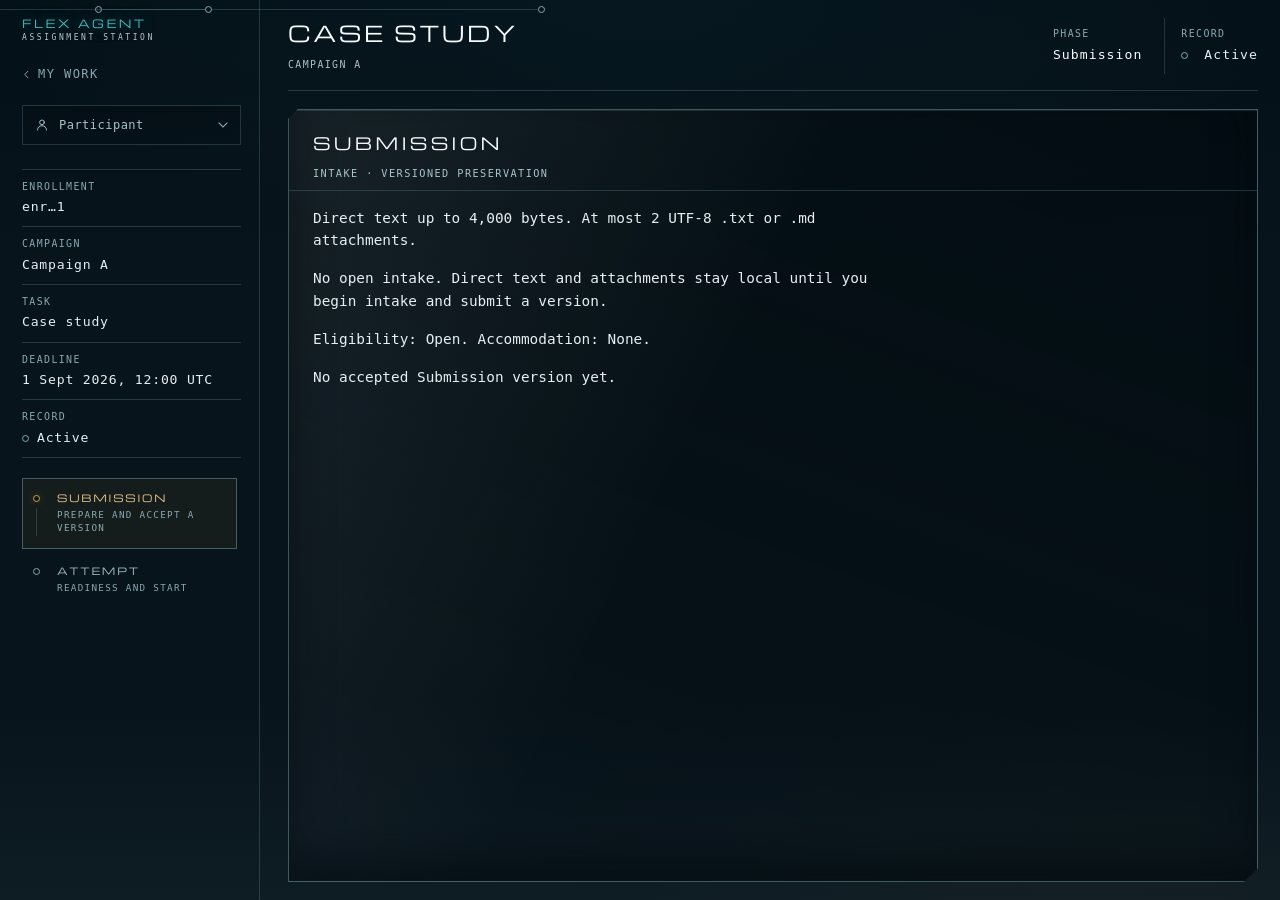
ProductionMyWorkDetailPage › shows Start Attempt confirmation facts from authoritative readiness
Click the button with aria-label "Attempt —" at (130, 579), box [22, 551, 237, 608]
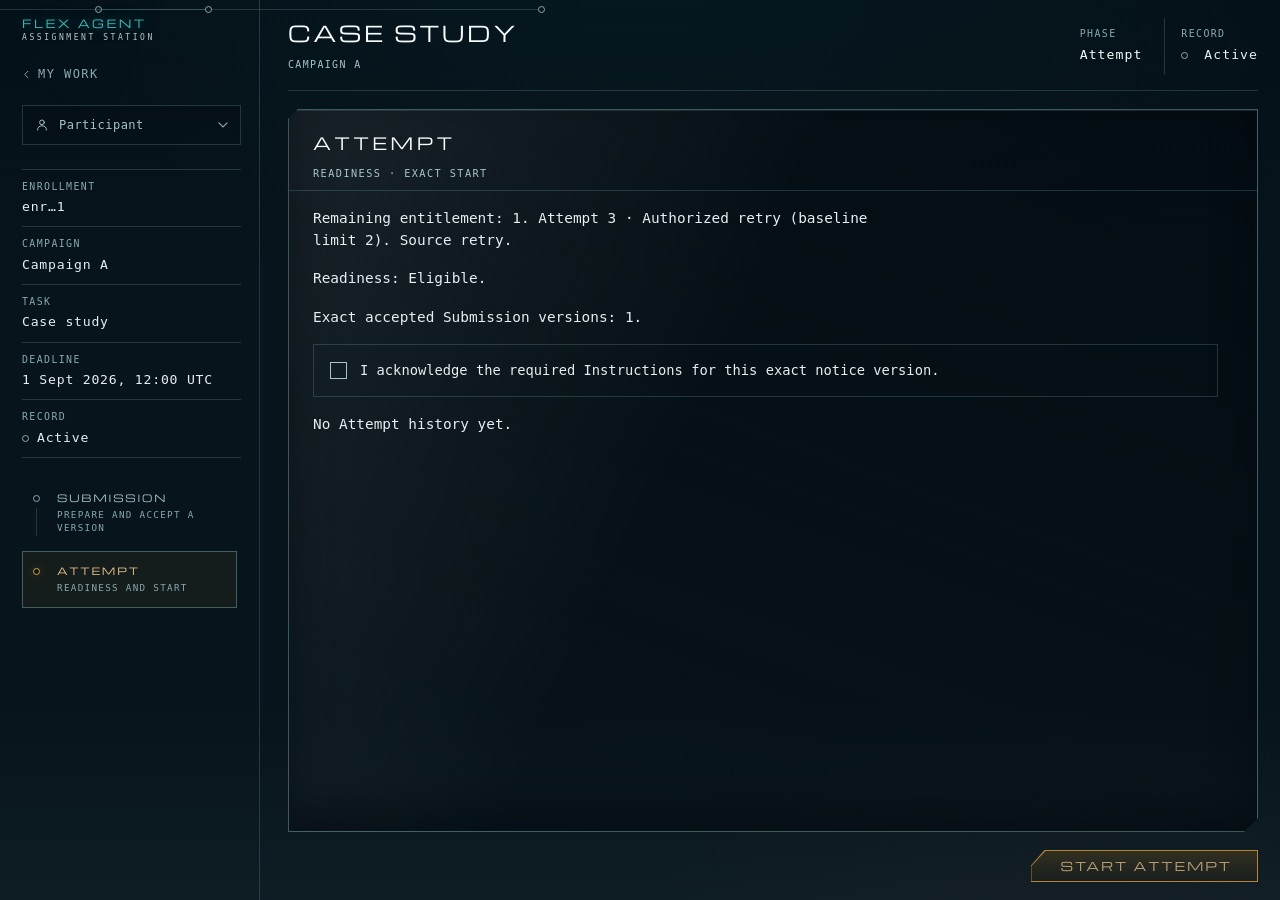
Click the checkbox labelled "required Instructions" at (766, 371), box [313, 344, 1218, 397]
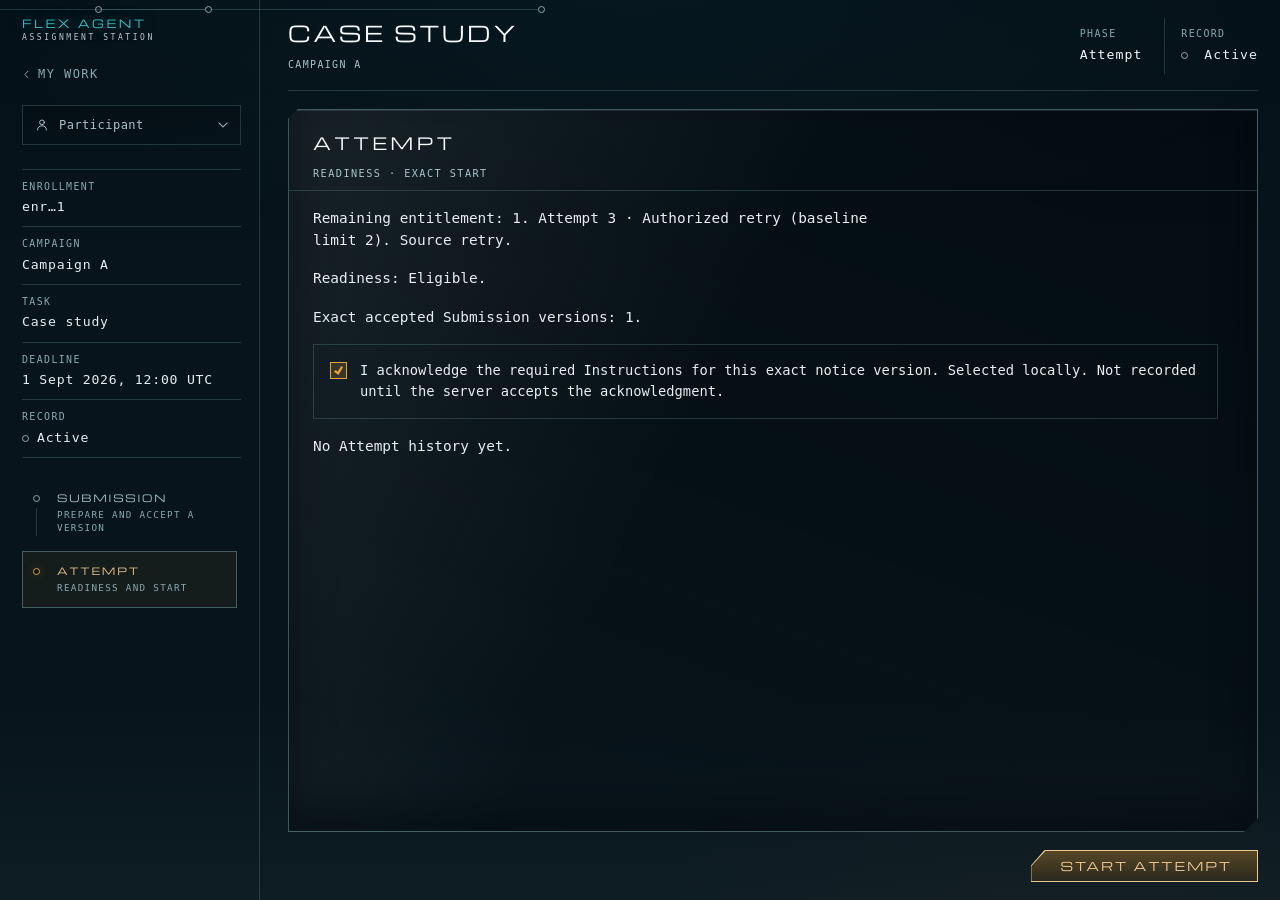
Click the button "Start Attempt" at (1144, 866), box [1030, 850, 1258, 882]
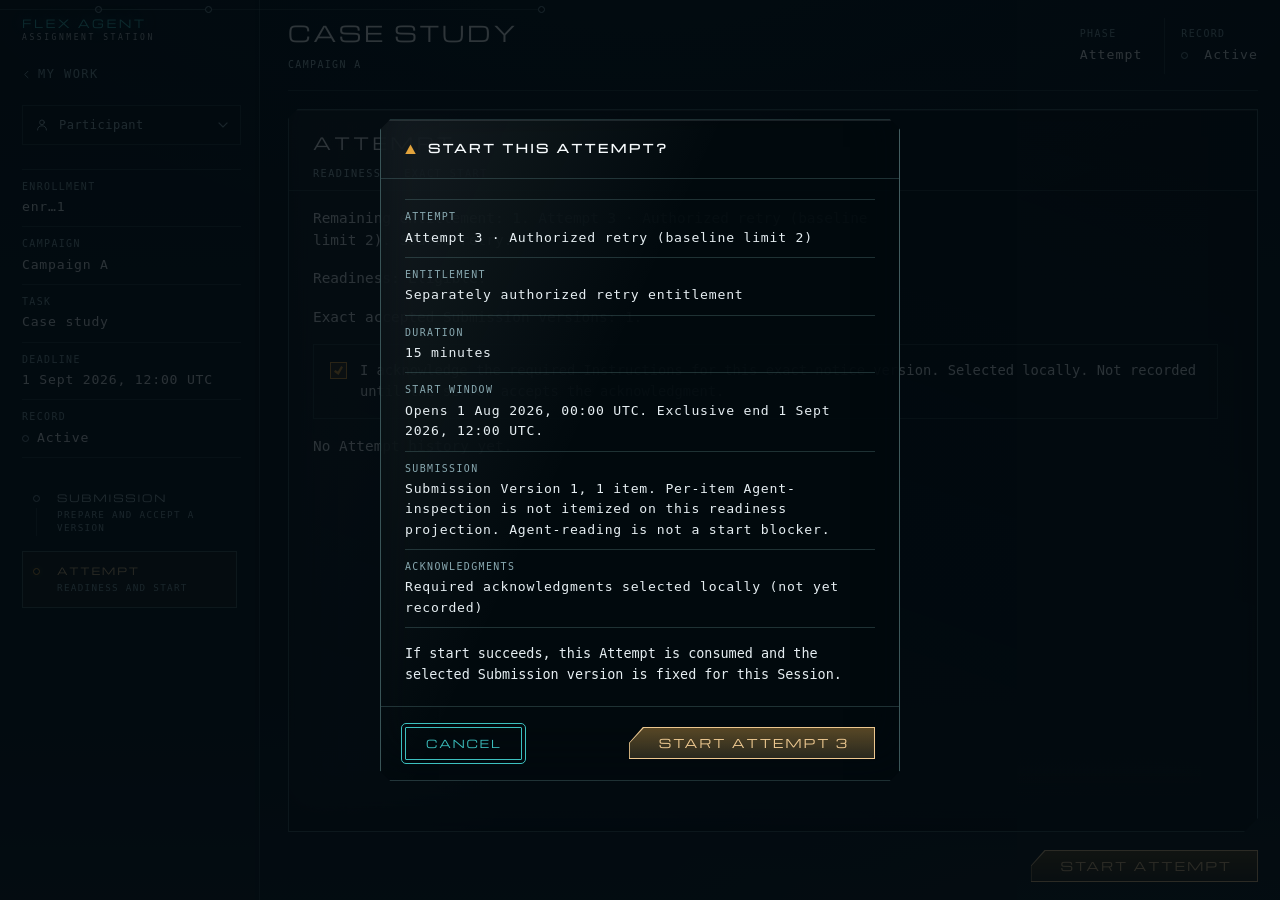
Result: the dialog "Start this Attempt?" shows "Attempt 3 · Authorized retry (baseline limit 2)" at [405, 230, 813, 245]
Result: the dialog "Start this Attempt?" shows "Separately authorized retry entitlement" at [405, 287, 744, 302]
Result: the dialog "Start this Attempt?" shows "15 minutes" at [405, 345, 492, 360]
